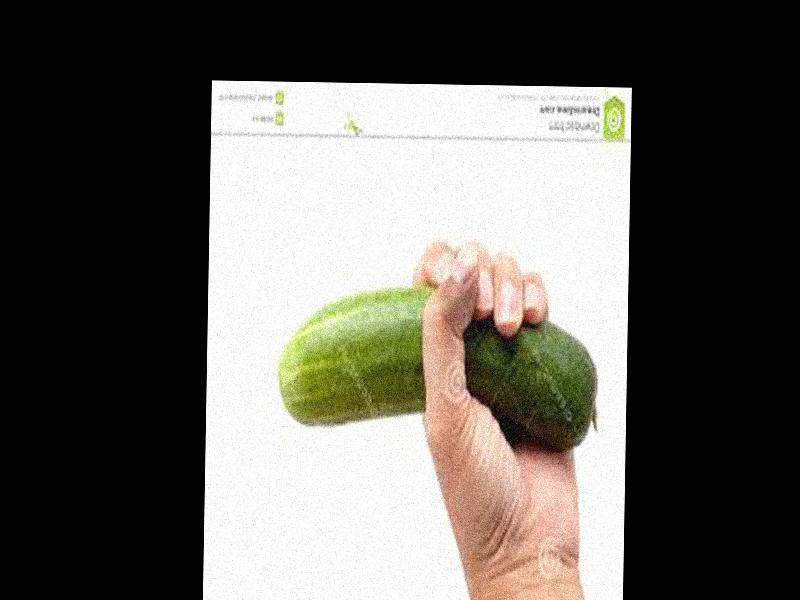Cucumber: (276, 281, 596, 449)
